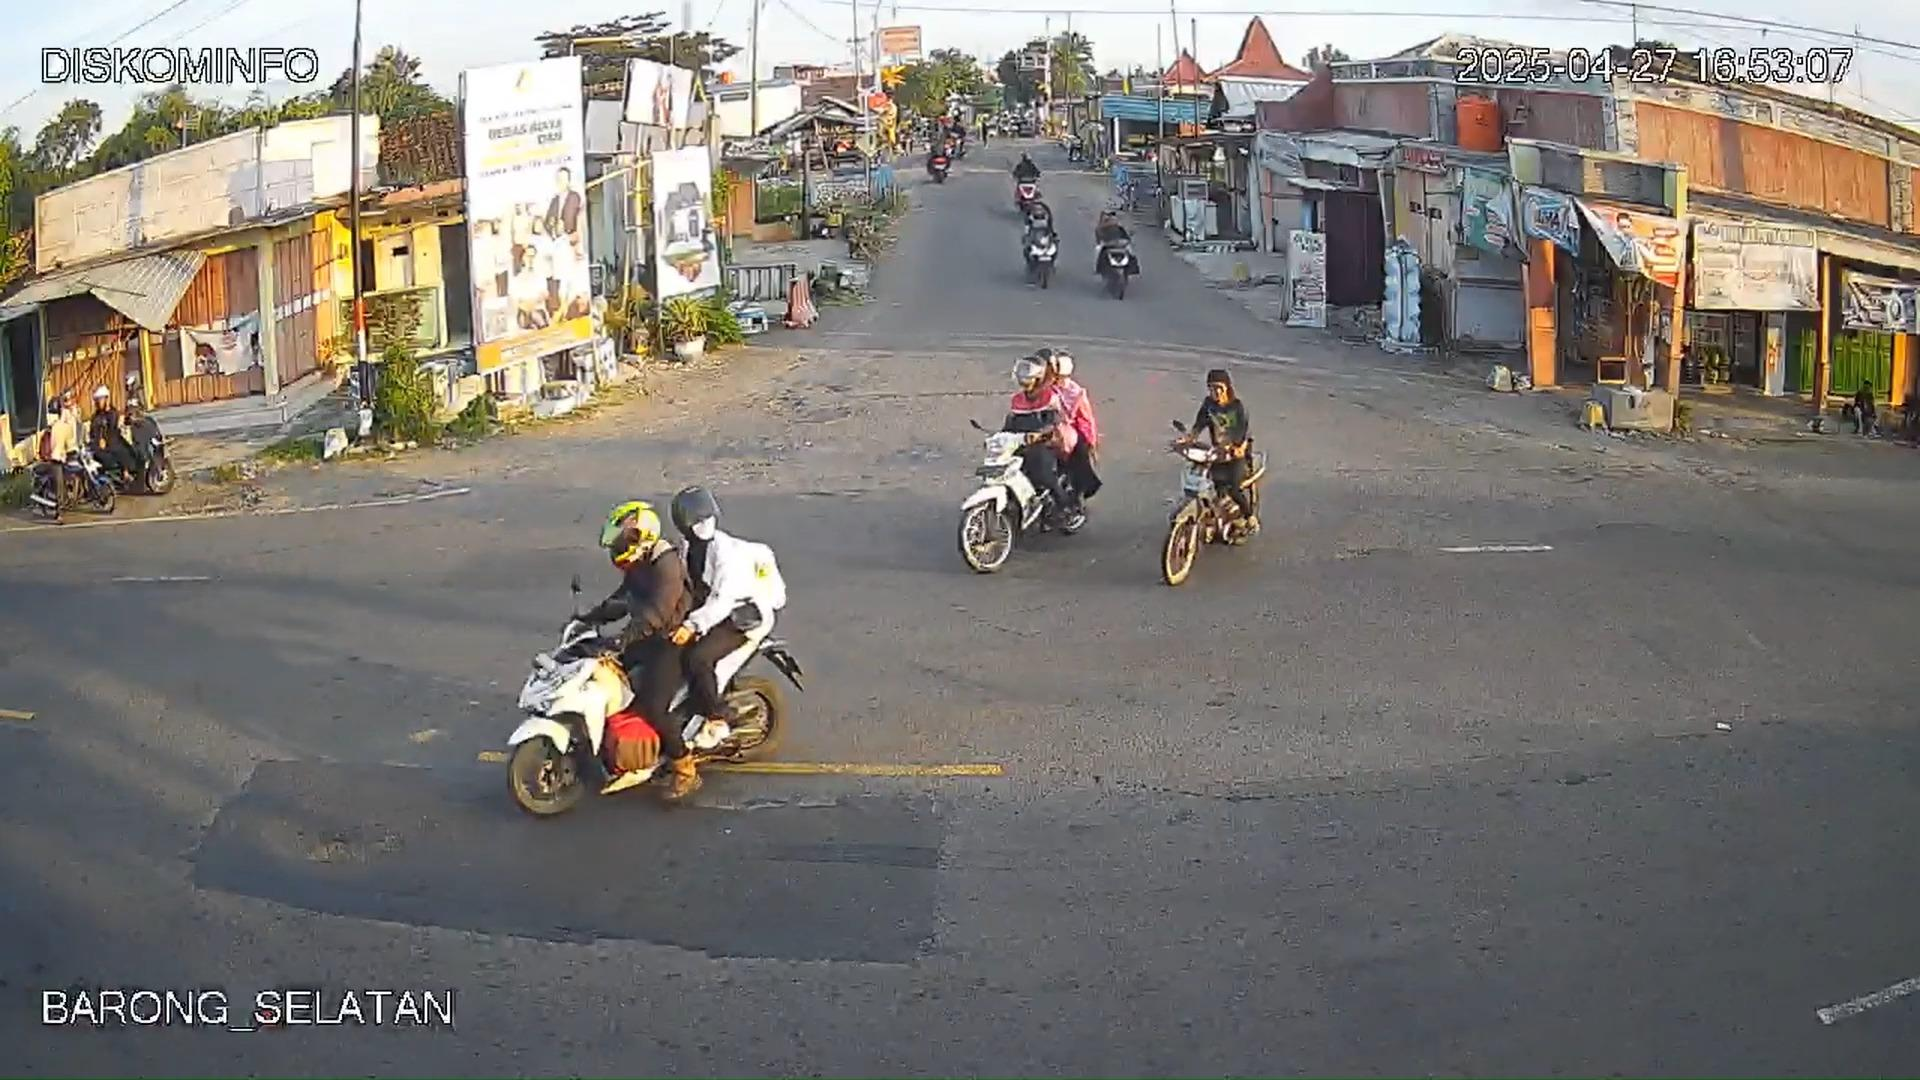Motor: (502, 572, 807, 816), (952, 410, 1093, 575), (1179, 368, 1259, 541), (29, 433, 123, 520), (1019, 207, 1060, 289)
